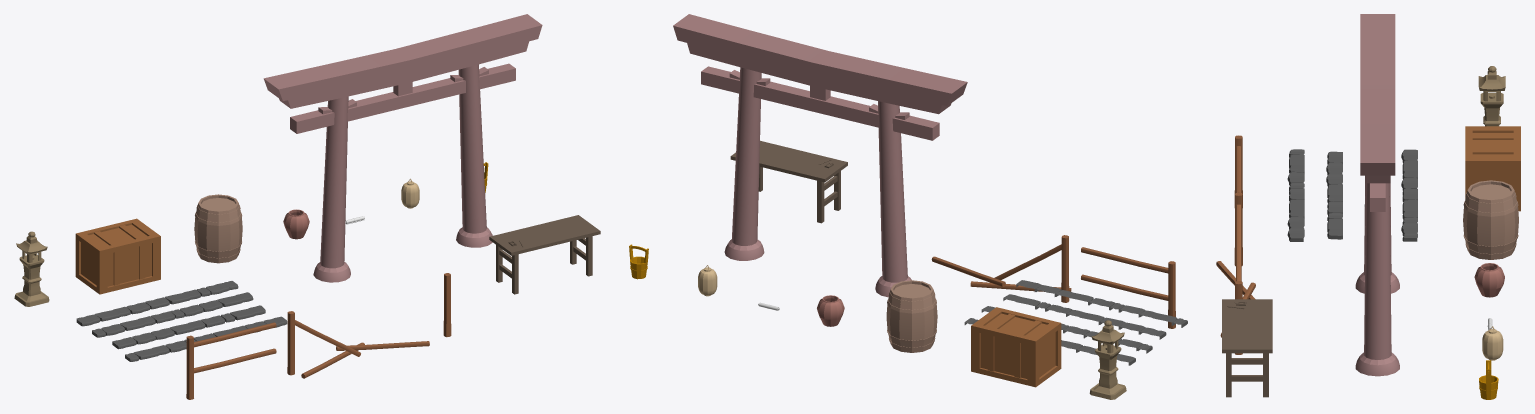
The model's file is Small Props FBX.fbx.
3 views of the same model, side by side, from view 1: azimuth 30°, elevation 25°; view 2: azimuth 150°, elevation 25°; view 3: azimuth 270°, elevation 25° (orthographic). The views are drawn at different scales.
Visible parts, largest first — view 1: Torii2, Box, Table, Barrel, Fence_Piece_2, Stair_Piece_4, Stair_Piece_3, Stone_Lamp1, Stair_Piece_2, Fence_Piece_1, Stair_Piece_1, Pot1; view 2: Torii2, Box, Barrel, Table, Fence_Piece_2, Stone_Lamp1, Fence_Piece_1, Stair_Piece_1, Stair_Piece_2, Pot1, Stair_Piece_3, Pail (+1 smaller); view 3: Torii2, Barrel, Table, Box, Stair_Piece_1, Stair_Piece_4, Stair_Piece_2, Stone_Lamp1, Fence_Piece_2, Pot1, Lantern1, Pail (+1 smaller).
Boxes of the visible parts, x1,y1,x2,y2 form: Torii2: [263, 14, 542, 282]; Box: [75, 218, 160, 294]; Table: [489, 215, 600, 294]; Barrel: [194, 194, 242, 263]; Fence_Piece_2: [287, 311, 429, 378]; Stair_Piece_4: [76, 281, 238, 326]; Stair_Piece_3: [92, 292, 253, 337]; Stone_Lamp1: [14, 231, 49, 306]; Stair_Piece_2: [112, 305, 265, 349]; Fence_Piece_1: [186, 322, 276, 399]; Stair_Piece_1: [125, 316, 287, 361]; Pot1: [283, 209, 309, 239]; Torii2: [673, 14, 967, 297]; Box: [971, 307, 1061, 387]; Barrel: [886, 280, 937, 352]; Table: [730, 140, 847, 223]; Fence_Piece_2: [931, 235, 1071, 302]; Stone_Lamp1: [1089, 320, 1126, 399]; Fence_Piece_1: [1081, 247, 1175, 328]; Stair_Piece_1: [1016, 280, 1187, 327]; Stair_Piece_2: [1003, 294, 1166, 339]; Pot1: [817, 295, 844, 326]; Stair_Piece_3: [981, 306, 1152, 353]; Pail: [629, 244, 648, 279]; Torii2: [1355, 14, 1399, 376]; Barrel: [1463, 180, 1518, 259]; Table: [1222, 299, 1272, 397]; Box: [1465, 126, 1520, 211]; Stair_Piece_1: [1287, 149, 1304, 241]; Stair_Piece_4: [1401, 149, 1417, 241]; Stair_Piece_2: [1326, 151, 1342, 239]; Stone_Lamp1: [1478, 66, 1505, 126]; Fence_Piece_2: [1216, 192, 1255, 337]; Pot1: [1474, 263, 1504, 297]; Lantern1: [1482, 326, 1503, 360]; Pail: [1479, 360, 1498, 399].
Bounding box in the file's own units: 1056 × 511 × 516.
